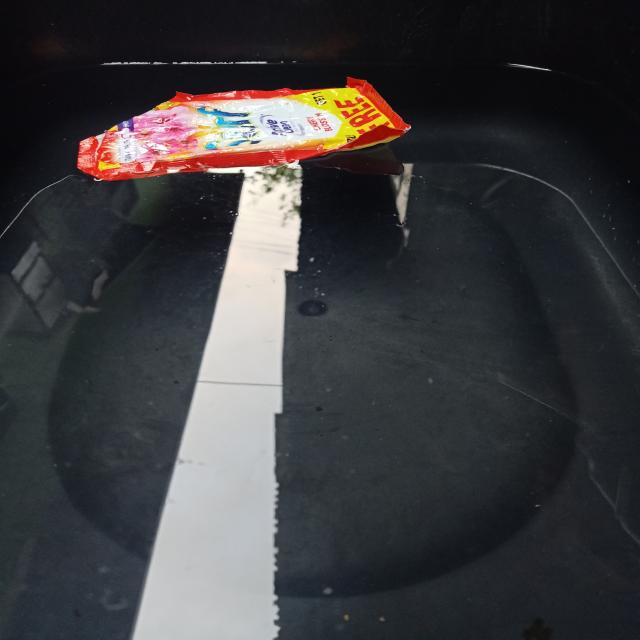Plastic Wrapper: (58, 69, 413, 194)
